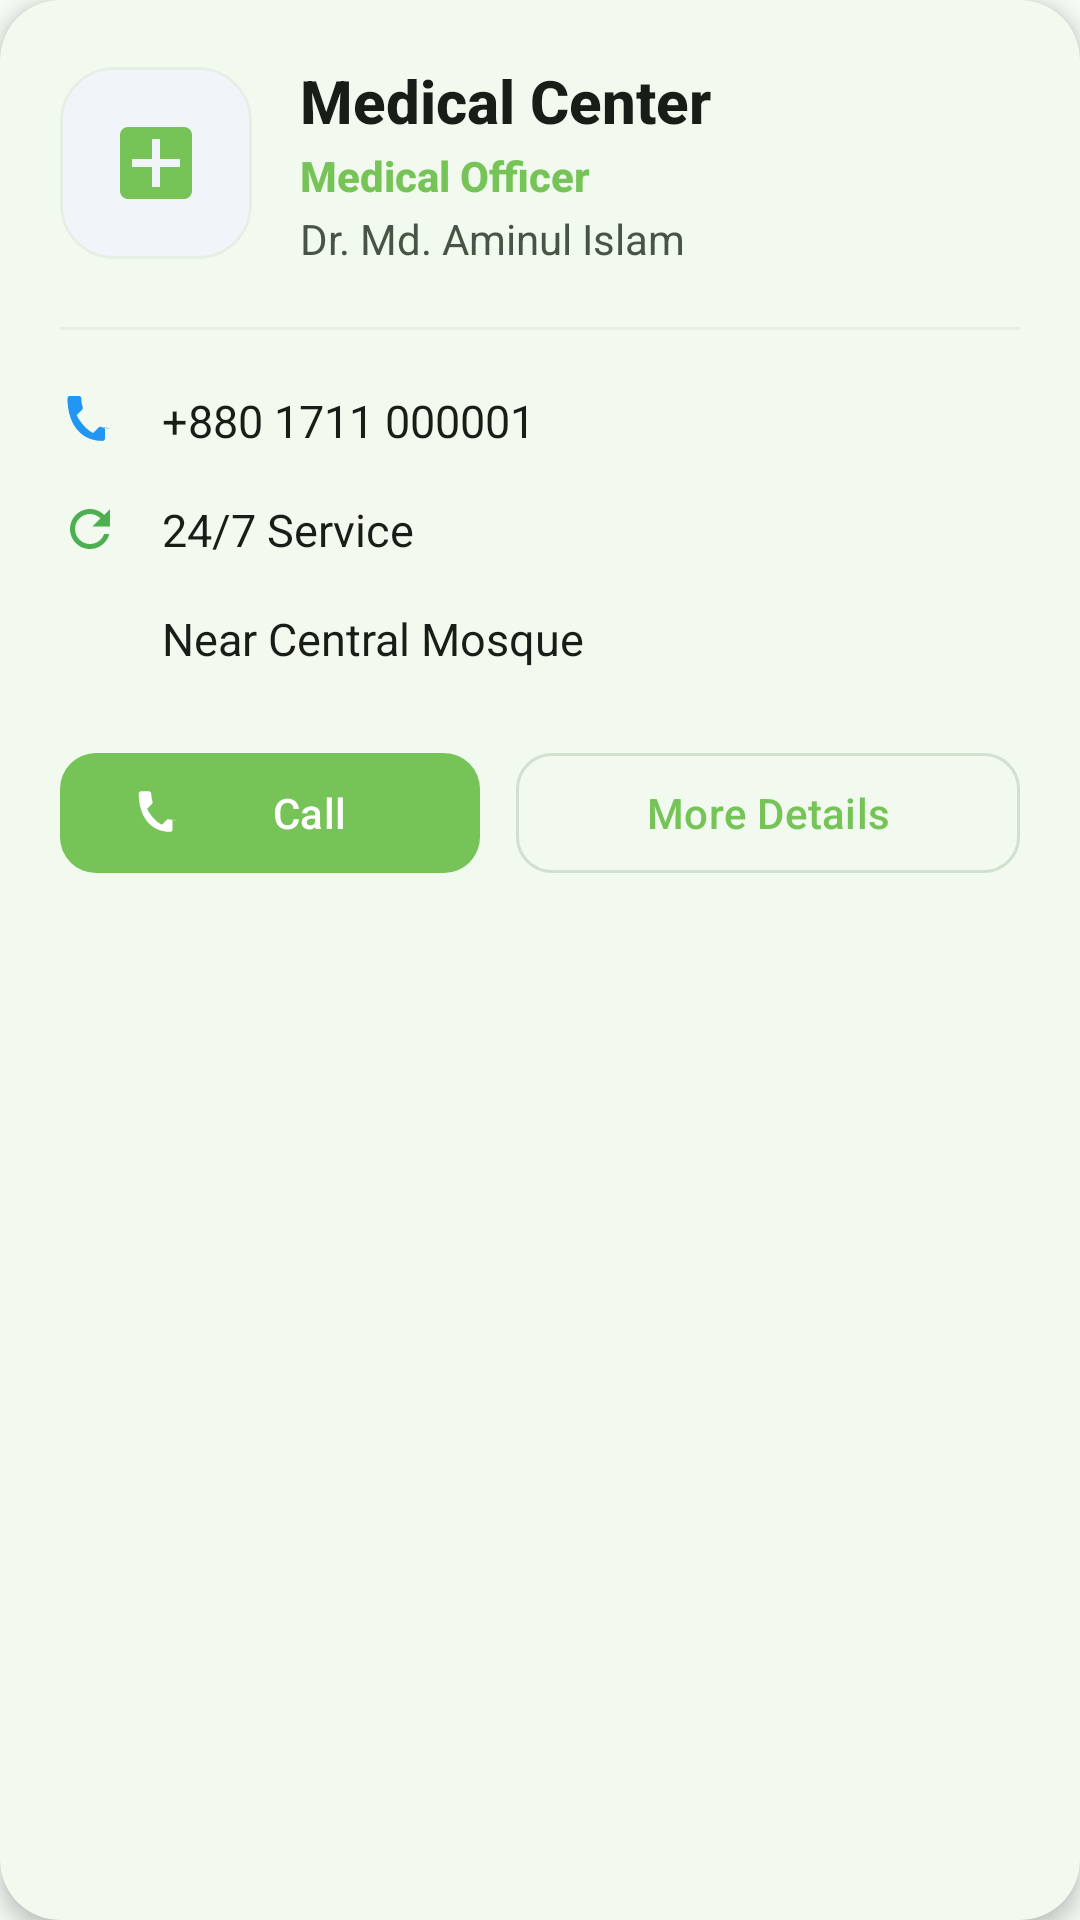

Named icons in this screenshot (1080×1920) and their bounding boxes, (x1, y1, x2, y2):
call: (67, 396, 110, 441)
refresh: (70, 509, 110, 549)
